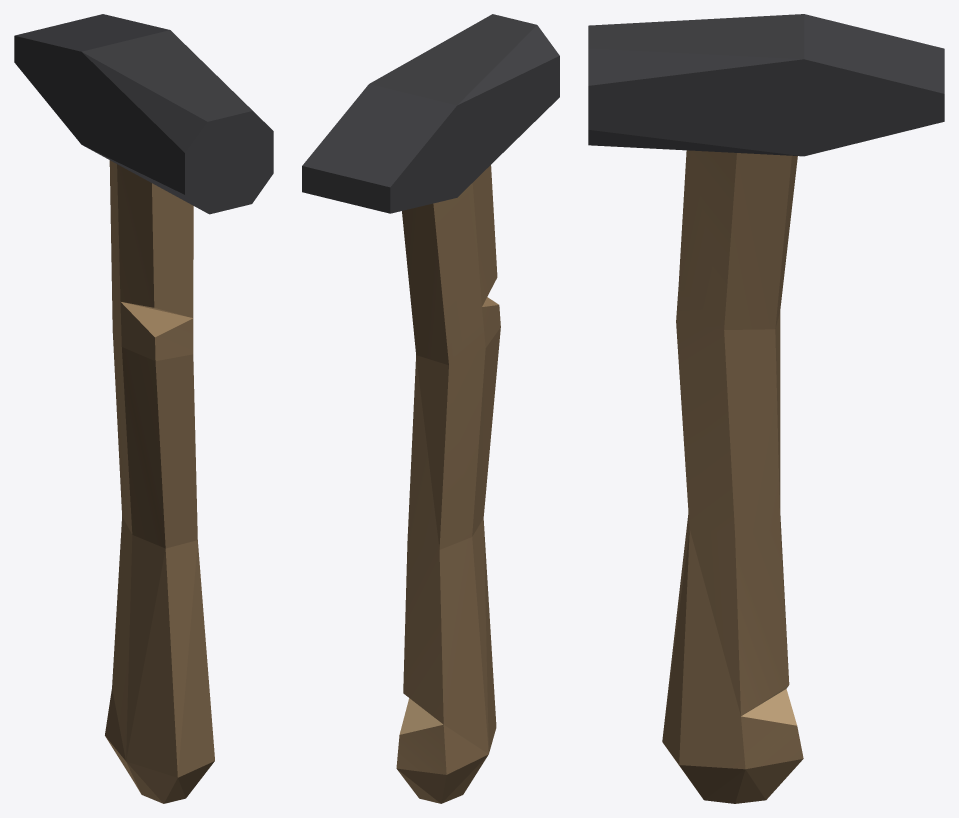
Rendered from Martillo_02.glb.
3 renders of one model, left to right at view 1: azimuth 30°, elevation 25°; view 2: azimuth 150°, elevation 25°; view 3: azimuth 270°, elevation 25°, orthographic. The views are drawn at different scales.
Parts seen in each view (by area): view 1: SM_Wep_Ball_Hammer_01; view 2: SM_Wep_Ball_Hammer_01; view 3: SM_Wep_Ball_Hammer_01.
Boxes of the visible parts, x1,y1,x2,y2 form: SM_Wep_Ball_Hammer_01: (14,14,273,803); SM_Wep_Ball_Hammer_01: (302,14,559,803); SM_Wep_Ball_Hammer_01: (588,14,944,803).
Size of the model in its own units: 0.0721 by 0.5621 by 0.2399.
1 material, 1 textured.
